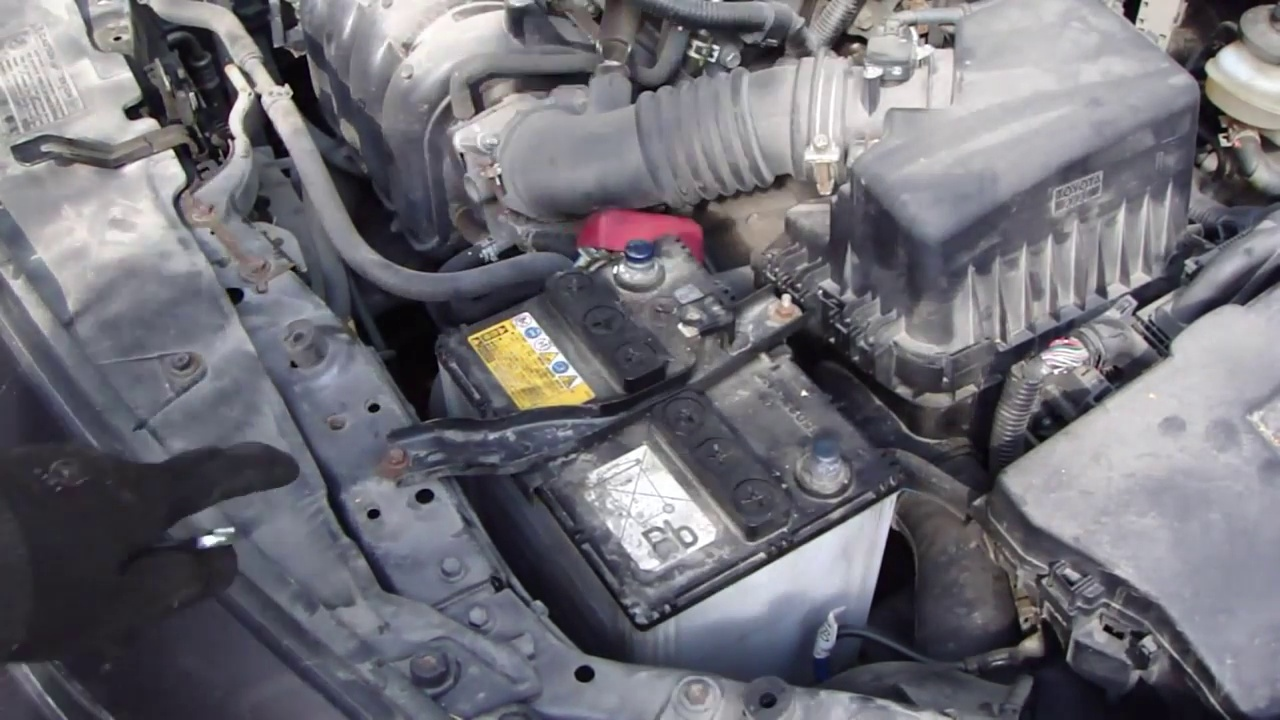battery: (430, 228, 898, 595)
neg_disconnected: (779, 412, 867, 501)
pos_disconnected: (561, 197, 719, 306)
